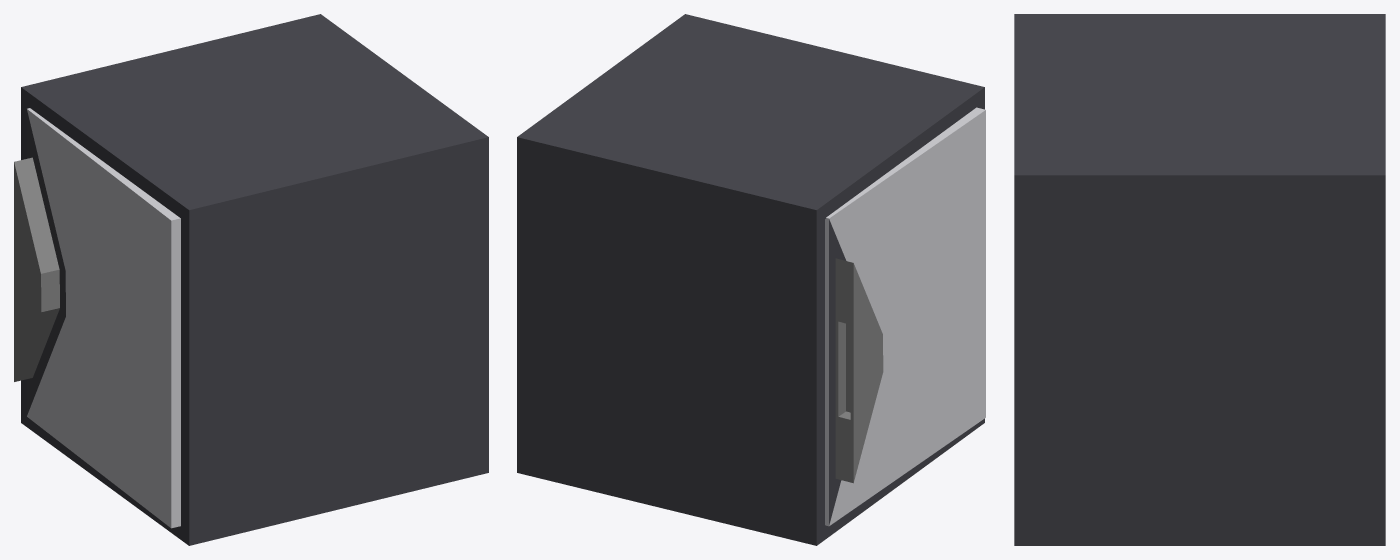
File: drawer1 textured.fbx
The picture shows the model from 3 angles, left to right: view 1: azimuth 30°, elevation 25°; view 2: azimuth 150°, elevation 25°; view 3: azimuth 270°, elevation 25°; orthographic projection. The views are drawn at different scales.
Parts seen in each view (by area): view 1: Drawer1 right, Drawer1 top, Front, Drawer1 bottom; view 2: Drawer1 left, Drawer1 top, Front, Drawer1 bottom; view 3: Drawer1 back, Drawer1 top, Drawer1 left, Drawer1 right, Drawer1 bottom.
Boxes of the visible parts, x1=… form: Drawer1 right: x1=181, y1=152, x2=488, y2=531; Drawer1 top: x1=21, y1=14, x2=488, y2=225; Front: x1=14, y1=108, x2=180, y2=528; Drawer1 bottom: x1=21, y1=409, x2=488, y2=545; Drawer1 left: x1=517, y1=152, x2=824, y2=531; Drawer1 top: x1=517, y1=14, x2=984, y2=225; Front: x1=825, y1=107, x2=985, y2=526; Drawer1 bottom: x1=517, y1=418, x2=984, y2=545; Drawer1 back: x1=1032, y1=192, x2=1367, y2=530; Drawer1 top: x1=1014, y1=14, x2=1385, y2=191; Drawer1 left: x1=1367, y1=192, x2=1385, y2=530; Drawer1 right: x1=1014, y1=192, x2=1032, y2=530; Drawer1 bottom: x1=1014, y1=530, x2=1385, y2=545.
Size of the model in its own units: 917 by 911 by 827.
